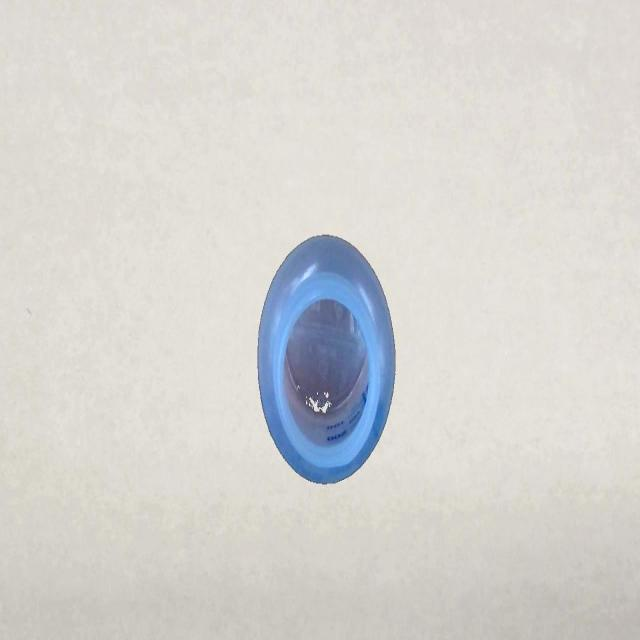bottle: (256, 230, 398, 487)
